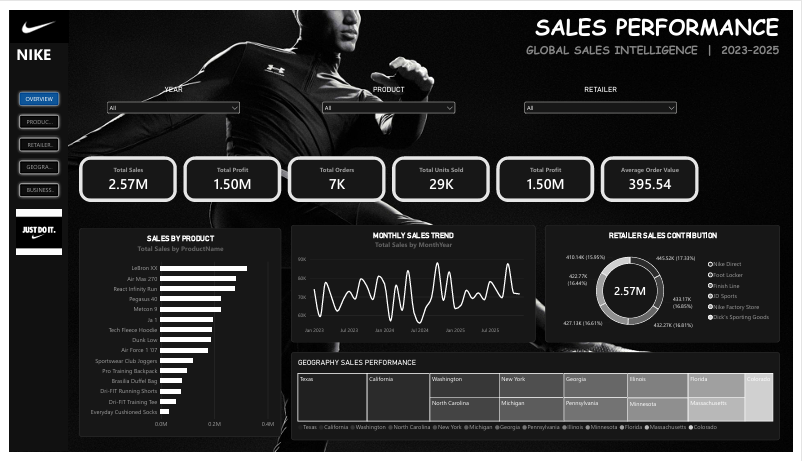

This screenshot's page, from the dashboard's own definition file:
{"tool":"powerbi","page":{"name":"OVERVIEW","canvas":[1920,1080],"ordinal":0},"visuals":[{"type":"cardVisual","fields":{"Data":["FactOrders.Total Sales"]},"box":[170.5,356.8,240,112],"z":0},{"type":"lineChart","title":"MONTHLY SALES TREND","fields":{"Category":["DimDate.MonthYear"],"Y":["FactOrders.Total Sales"]},"box":[690.5,524.8,600,288],"z":1000},{"type":"clusteredBarChart","title":"SALES BY PRODUCT","fields":{"Category":["DimProduct.ProductName"],"Y":["FactOrders.Total Sales"]},"box":[170.5,532.8,496,512],"z":2000},{"type":"donutChart","title":"RETAILER SALES CONTRIBUTION","fields":{"Category":["DimRetailer.RetailerName"],"Y":["FactOrders.Total Sales"]},"box":[1314.5,524.8,576,288],"z":3000},{"type":"group","id":"g1","title":"Group 1","box":[0,0,144,1080],"z":4000},{"type":"textbox","title":"SALES PERFORMANCE","box":[160,0,1728,160],"z":5000},{"type":"cardVisual","fields":{"Data":["FactOrders.Total Profit"]},"box":[426.5,356.8,240,112],"z":6000},{"type":"cardVisual","fields":{"Data":["FactOrders.Total Profit"]},"box":[1194.5,356.8,240,112],"z":7000},{"type":"cardVisual","fields":{"Data":["FactOrders.Total Orders"]},"box":[682.5,356.8,240,112],"z":8000},{"type":"cardVisual","fields":{"Data":["FactOrders.Total Units Sold"]},"box":[938.5,356.8,240,112],"z":9000},{"type":"shape","box":[0,0,144,1080],"z":10000,"group":"g1"},{"type":"cardVisual","fields":{"Data":["FactOrders.Average Order Value"]},"box":[1450.5,356.8,240,112],"z":10000},{"type":"textbox","box":[16,80,112,64],"z":11000,"group":"g1"},{"type":"treemap","title":"GEOGRAPHY SALES PERFORMANCE","fields":{"Group":["DimGeography.State"],"Values":["FactOrders.Total Sales"]},"box":[690.5,836.8,1200,216],"z":11000},{"type":"slicer","title":"PRODUCT","fields":{"Values":["DimProduct.ProductName"]},"box":[762.5,180.8,336,128],"z":12000},{"type":"slicer","title":"RETAILER","fields":{"Values":["DimRetailer.RetailerName"]},"box":[1258.5,180.8,384,128],"z":13000},{"type":"slicer","title":"YEAR","fields":{"Values":["DimDate.Year"]},"box":[234.5,180.8,336,128],"z":14000},{"type":"image","box":[0,0,144,80],"z":15000},{"type":"pageNavigator","box":[16,192,112,272],"z":16000},{"type":"image","box":[16,480,112,128],"z":17000}]}

Visuals, with their boxes in screenshot pixels (x1, y1, x2, y2), scaled from the page's 1920x1080 canvas onto the 802x461 screenshot:
cardVisual - FactOrders.Total Sales: pyautogui.locateOnScreen(71, 152, 171, 200)
"MONTHLY SALES TREND" lineChart: pyautogui.locateOnScreen(288, 224, 539, 347)
"SALES BY PRODUCT" clusteredBarChart: pyautogui.locateOnScreen(71, 227, 278, 446)
"RETAILER SALES CONTRIBUTION" donutChart: pyautogui.locateOnScreen(549, 224, 790, 347)
"Group 1" group: pyautogui.locateOnScreen(0, 0, 60, 460)
"SALES PERFORMANCE" textbox: pyautogui.locateOnScreen(67, 0, 789, 68)
cardVisual - FactOrders.Total Profit: pyautogui.locateOnScreen(178, 152, 278, 200)
cardVisual - FactOrders.Total Profit: pyautogui.locateOnScreen(499, 152, 599, 200)
cardVisual - FactOrders.Total Orders: pyautogui.locateOnScreen(285, 152, 385, 200)
cardVisual - FactOrders.Total Units Sold: pyautogui.locateOnScreen(392, 152, 492, 200)
shape: pyautogui.locateOnScreen(0, 0, 60, 460)
cardVisual - FactOrders.Average Order Value: pyautogui.locateOnScreen(606, 152, 706, 200)
textbox: pyautogui.locateOnScreen(7, 34, 53, 61)
"GEOGRAPHY SALES PERFORMANCE" treemap: pyautogui.locateOnScreen(288, 357, 790, 449)
"PRODUCT" slicer: pyautogui.locateOnScreen(319, 77, 459, 132)
"RETAILER" slicer: pyautogui.locateOnScreen(526, 77, 686, 132)
"YEAR" slicer: pyautogui.locateOnScreen(98, 77, 238, 132)
image: pyautogui.locateOnScreen(0, 0, 60, 34)
pageNavigator: pyautogui.locateOnScreen(7, 82, 53, 198)
image: pyautogui.locateOnScreen(7, 205, 53, 260)
